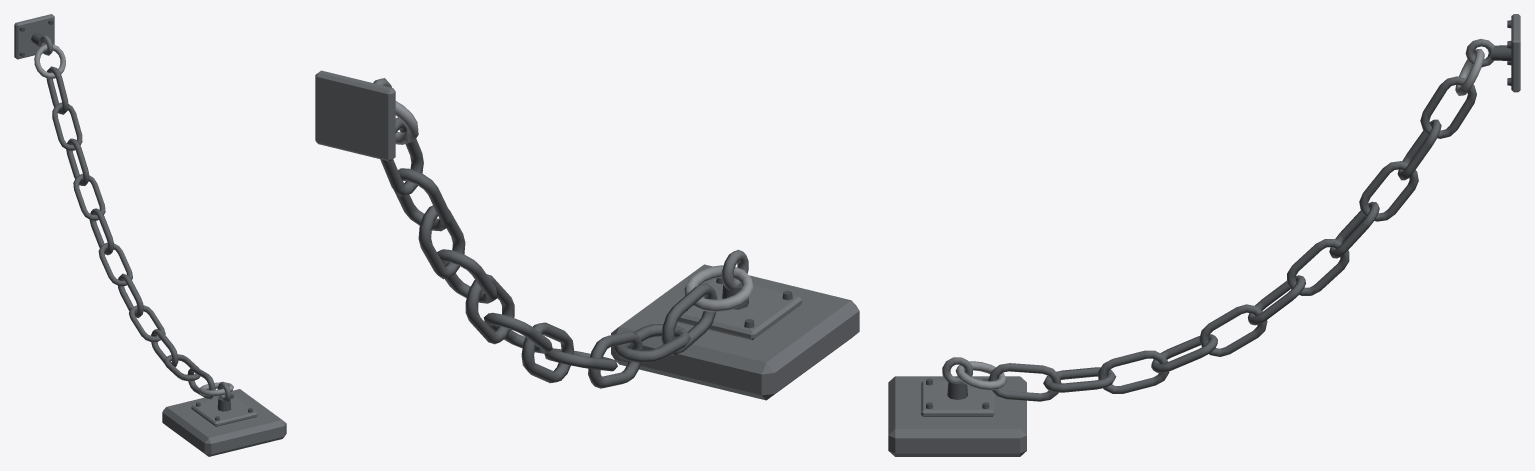
Rendered from SM_LPD_Prison_ChainRun_01.fbx.
The picture shows the model from 3 angles, left to right: view 1: azimuth 30°, elevation 25°; view 2: azimuth 150°, elevation 25°; view 3: azimuth 270°, elevation 25°; orthographic projection. The views are drawn at different scales.
Parts seen in each view (by area): view 1: SM_LPD_Prison_ChainRun_01; view 2: SM_LPD_Prison_ChainRun_01; view 3: SM_LPD_Prison_ChainRun_01.
Part boxes in pixels (left/top/right/bottom): SM_LPD_Prison_ChainRun_01: left=14, top=14, right=286, bottom=456; SM_LPD_Prison_ChainRun_01: left=315, top=70, right=859, bottom=400; SM_LPD_Prison_ChainRun_01: left=888, top=14, right=1520, bottom=456.
Bounding box in the file's own units: 0.36 × 1.16 × 1.64.
